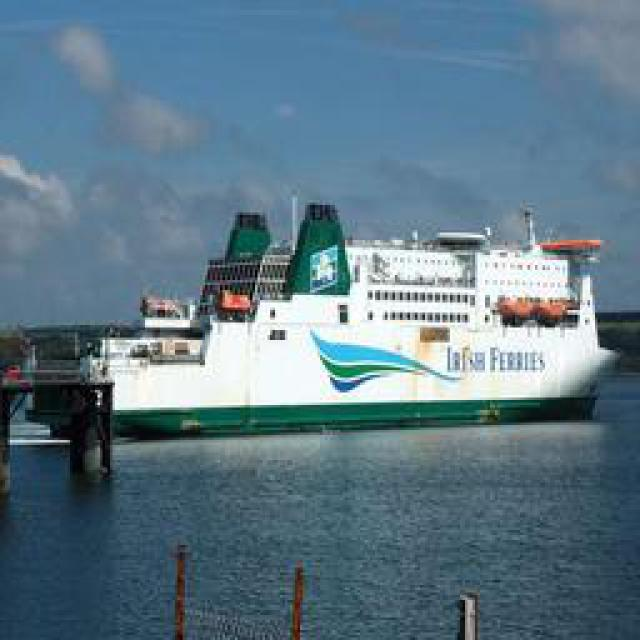Ship: (110, 198, 623, 433)
